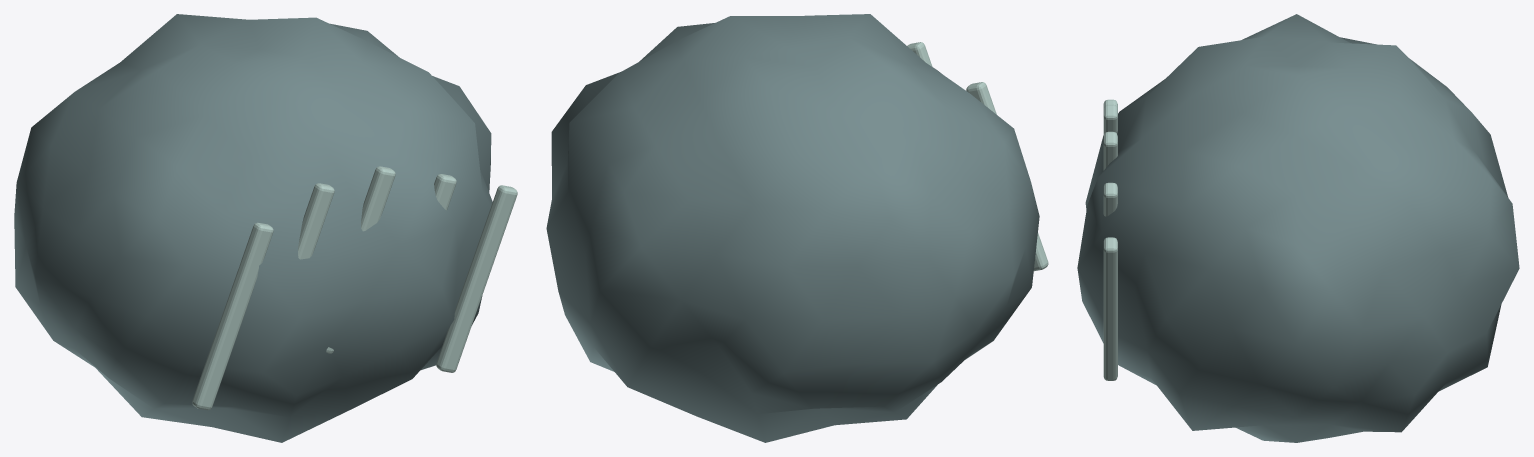
Rendered from ore.glb.
The picture shows the model from 3 angles, left to right: view 1: azimuth 30°, elevation 25°; view 2: azimuth 150°, elevation 25°; view 3: azimuth 270°, elevation 25°; orthographic projection. The views are drawn at different scales.
Visible parts, largest first — view 1: Environment_Blue grey mineral, Environment_Pale mineral seams; view 2: Environment_Blue grey mineral, Environment_Pale mineral seams; view 3: Environment_Blue grey mineral, Environment_Pale mineral seams.
Boxes of the visible parts, x1,y1,x2,y2 form: Environment_Blue grey mineral: (14, 14, 492, 442); Environment_Pale mineral seams: (192, 166, 517, 410); Environment_Blue grey mineral: (546, 14, 1039, 442); Environment_Pale mineral seams: (907, 42, 1048, 271); Environment_Blue grey mineral: (1077, 14, 1519, 442); Environment_Pale mineral seams: (1103, 99, 1117, 380).
Size of the model in its own units: 0.8958 by 0.7139 by 0.7723.
